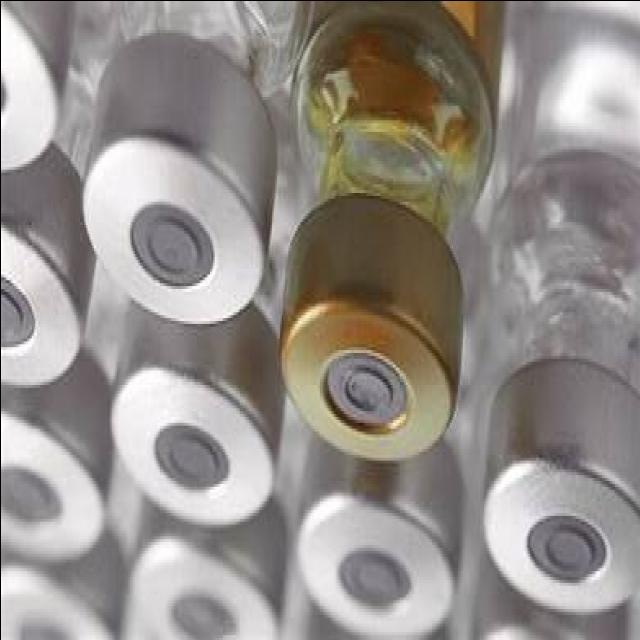vial: (464, 392, 640, 626), (93, 88, 278, 306), (286, 238, 458, 456), (103, 332, 276, 515), (302, 479, 458, 640), (122, 522, 272, 640), (0, 398, 107, 554), (0, 204, 74, 382), (0, 19, 66, 166), (0, 554, 108, 640)
